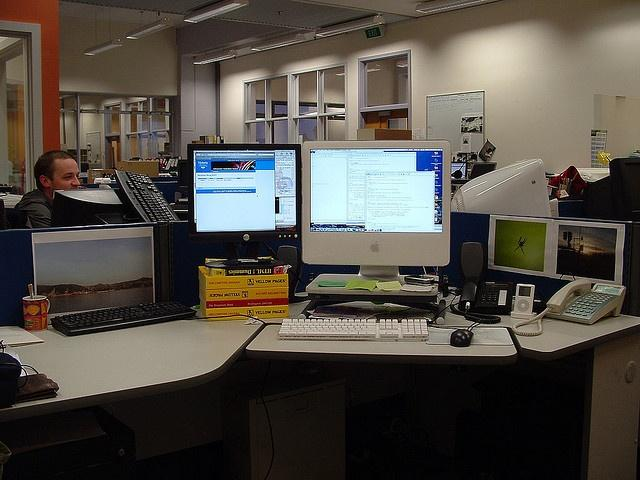AIO PC-Monitor-TV: (301, 140, 450, 266), (187, 141, 300, 245)
